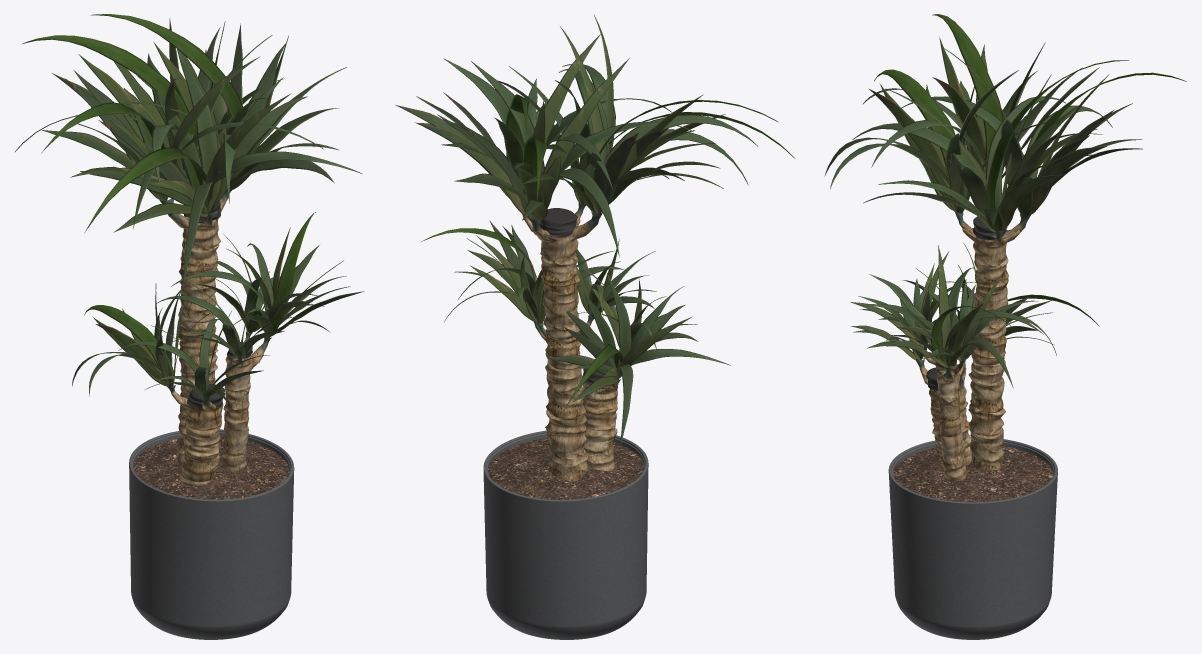
The model's file is cicek.gltf.
3 renders of one model, left to right at view 1: azimuth 30°, elevation 25°; view 2: azimuth 150°, elevation 25°; view 3: azimuth 270°, elevation 25°, orthographic. The views are drawn at different scales.
Parts seen in each view (by area): view 1: Object019, cicek (×2), Object016, Object018, Object015, Object017, Object009, Object012, Object013, Object011, Object010; view 2: Object019, cicek (×2), Object015, Object012, Object018, Object017, Object016, Object009, Object011, Object010, Object013; view 3: Object019, cicek (×2), Object018, Object017, Object016, Object015, Object009, Object010, Object011, Object012, Object013.
Boxes of the visible parts, x1,y1,x2,y2 form: Object019: [129, 429, 294, 639]; cicek (×2): [133, 178, 289, 499]; Object016: [80, 46, 362, 296]; Object018: [90, 14, 346, 203]; Object015: [15, 18, 284, 187]; Object017: [41, 56, 323, 229]; Object009: [171, 212, 364, 337]; Object012: [72, 283, 211, 396]; Object013: [118, 311, 269, 401]; Object011: [156, 271, 299, 360]; Object010: [194, 234, 324, 332]; Object019: [483, 430, 648, 639]; cicek (×2): [488, 201, 643, 499]; Object015: [414, 58, 693, 257]; Object012: [546, 272, 730, 449]; Object018: [395, 33, 671, 198]; Object017: [521, 26, 777, 213]; Object016: [498, 15, 794, 210]; Object009: [421, 220, 624, 303]; Object011: [576, 238, 656, 317]; Object010: [444, 255, 579, 328]; Object013: [578, 278, 697, 351]; Object019: [888, 437, 1057, 639]; cicek (×2): [893, 212, 1053, 502]; Object018: [852, 60, 1128, 232]; Object017: [862, 14, 1102, 178]; Object016: [824, 61, 1046, 213]; Object015: [901, 49, 1186, 215]; Object009: [866, 245, 1043, 367]; Object010: [896, 274, 1038, 388]; Object011: [850, 251, 975, 344]; Object012: [902, 242, 1099, 355]; Object013: [850, 263, 977, 360].
Size of the model in its own units: 59.07 by 96.48 by 57.75.
